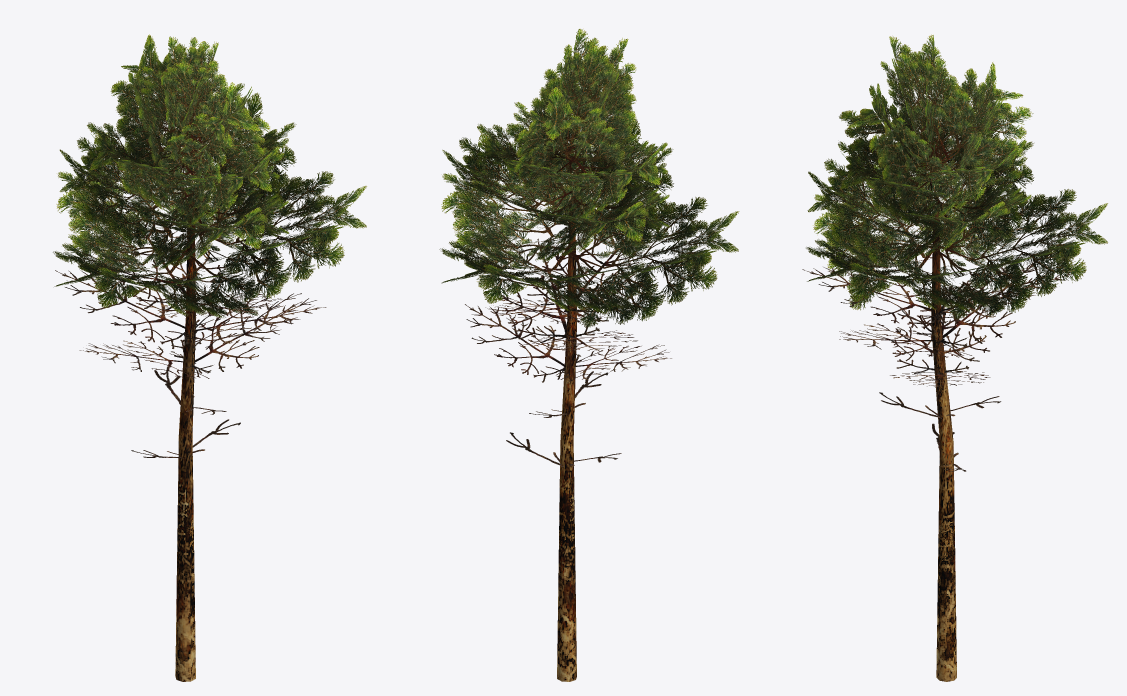
The model's file is pine-1.glb.
3 views of the same model, side by side, from view 1: azimuth 30°, elevation 25°; view 2: azimuth 150°, elevation 25°; view 3: azimuth 270°, elevation 25° (orthographic). The views are drawn at different scales.
Visible parts, largest first — view 1: pine-1; view 2: pine-1; view 3: pine-1.
Boxes of the visible parts, <box> form: pine-1: <box>53,34,366,681</box>; pine-1: <box>439,29,739,681</box>; pine-1: <box>802,34,1107,681</box>.
Bounding box in the file's own units: 11.81 × 21.16 × 10.17.
2 materials, 2 textured.
